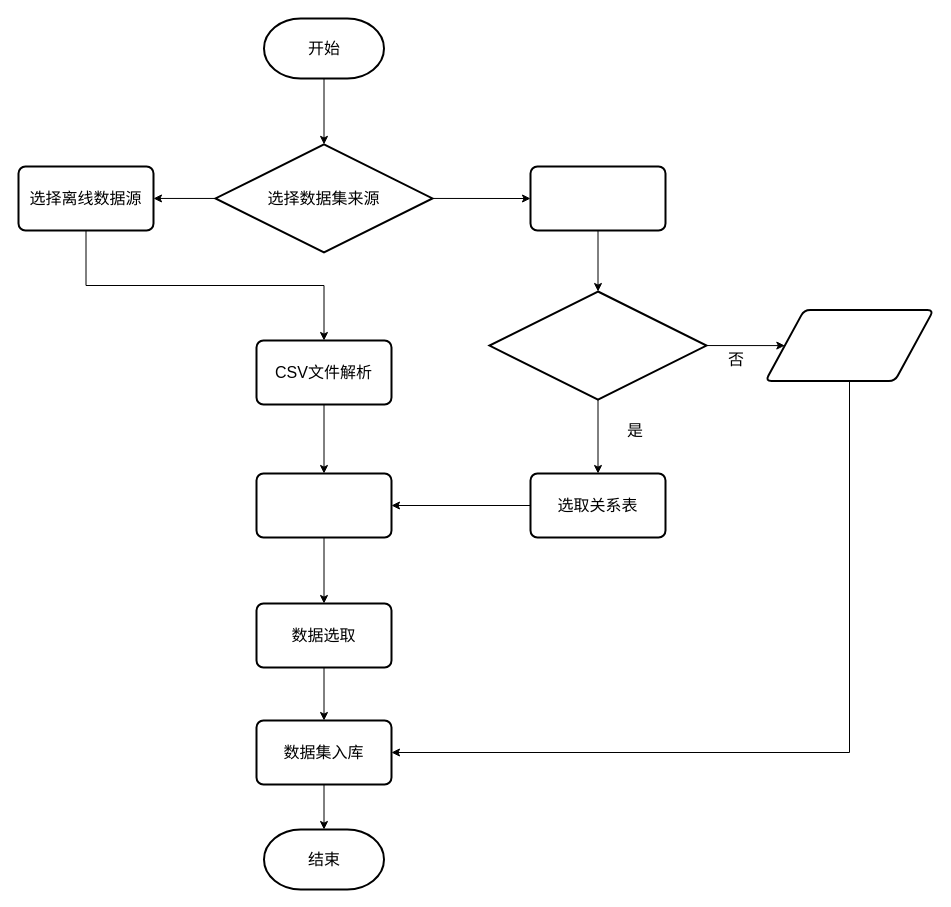
Some shapes in this 951 by 907 pixel diagram are drawn without their labels. The shapes that lost their labels are listed below. From the top down, each one's centre as x and y in pixels, then its label:
pixel 597 198: 选择在线数据源
pixel 597 345: 权限验证是否通过
pixel 849 345: 输出配置 失败原因
pixel 323 505: 数据集预览
